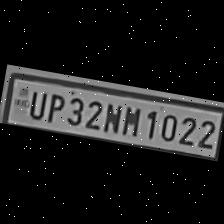0: (155, 108, 180, 142)
1: (138, 104, 160, 138)
2: (81, 94, 105, 130), (174, 111, 198, 145), (192, 114, 216, 148)
3: (62, 91, 86, 126)
M: (118, 101, 142, 137)
N: (100, 97, 123, 132)
P: (42, 88, 66, 124)
U: (23, 86, 48, 119)
